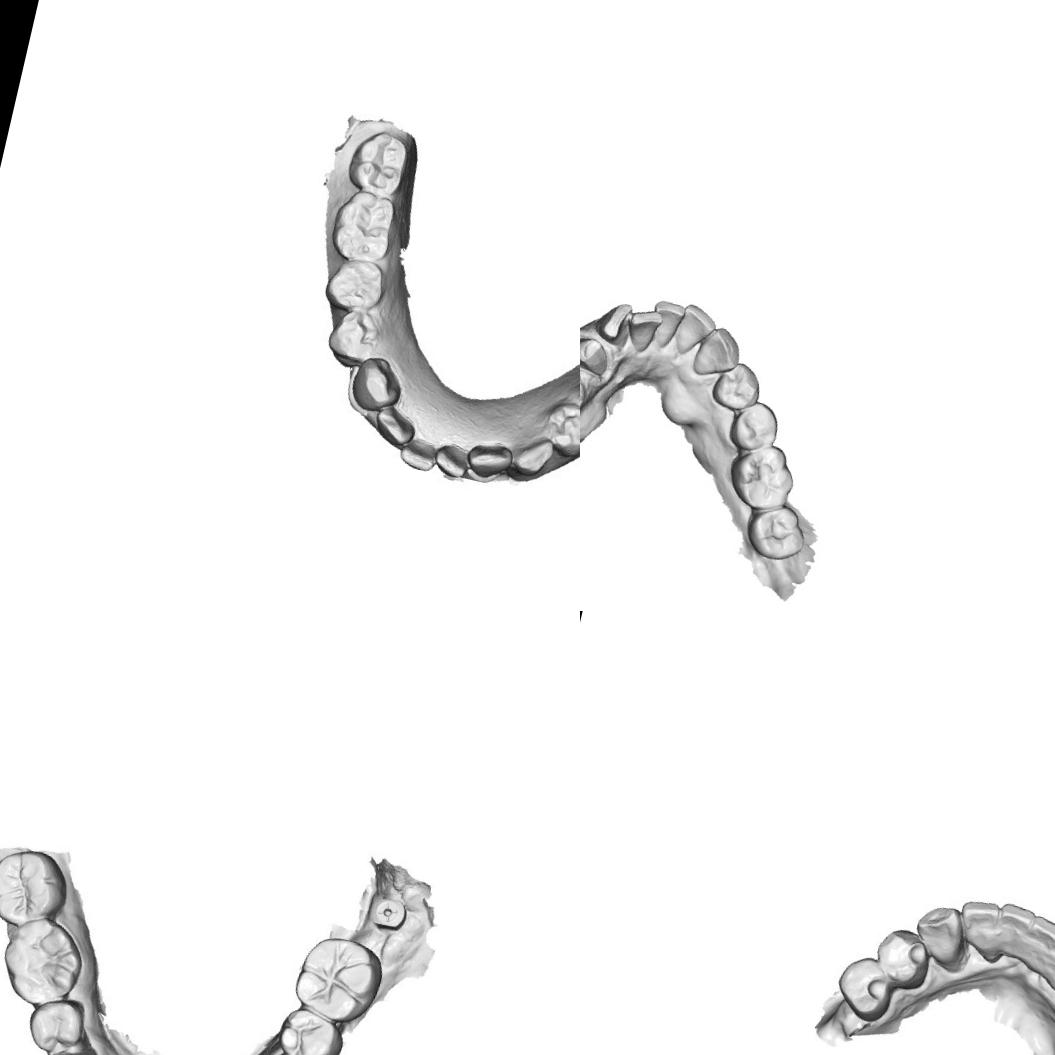canine: (907, 898, 974, 973), (346, 350, 409, 418), (689, 321, 747, 384), (508, 431, 558, 483)
crown: (580, 330, 616, 380)
implant_plus: (364, 888, 412, 934)
incisor: (951, 890, 1006, 956), (669, 300, 721, 363), (991, 900, 1040, 962), (462, 436, 516, 484), (645, 296, 689, 353), (370, 402, 421, 451), (622, 304, 668, 358), (592, 296, 634, 350), (1018, 914, 1055, 975), (393, 434, 442, 476), (429, 438, 474, 481)
molar: (288, 930, 387, 1027), (0, 916, 90, 1011), (0, 839, 76, 933), (722, 436, 804, 517), (325, 186, 402, 268), (344, 124, 414, 200), (741, 498, 814, 566)
premolar: (830, 950, 901, 1030), (868, 922, 940, 998), (322, 304, 390, 371), (322, 252, 390, 318), (20, 992, 89, 1055), (270, 1004, 352, 1055), (725, 395, 784, 458), (708, 355, 766, 416), (538, 397, 580, 461)
